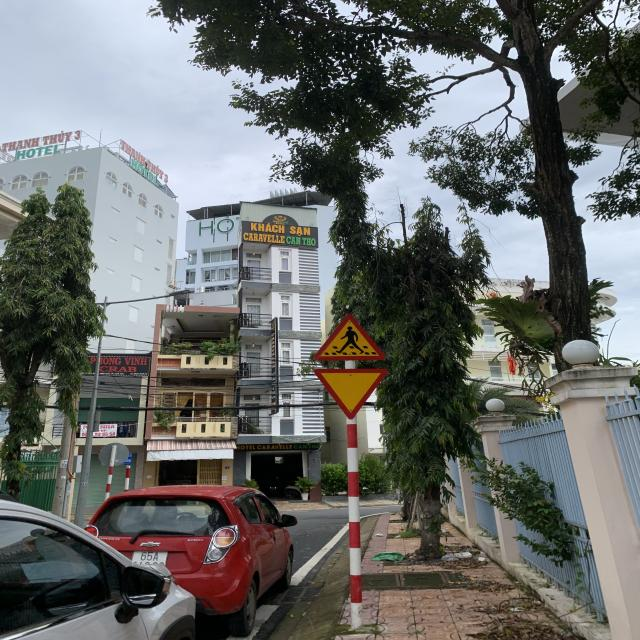Duong_Nguoi_Di_Bo_Sang_Ngang: (314, 313, 386, 361)
Gioi_Han_Toc_Do_25: (313, 367, 389, 419)
